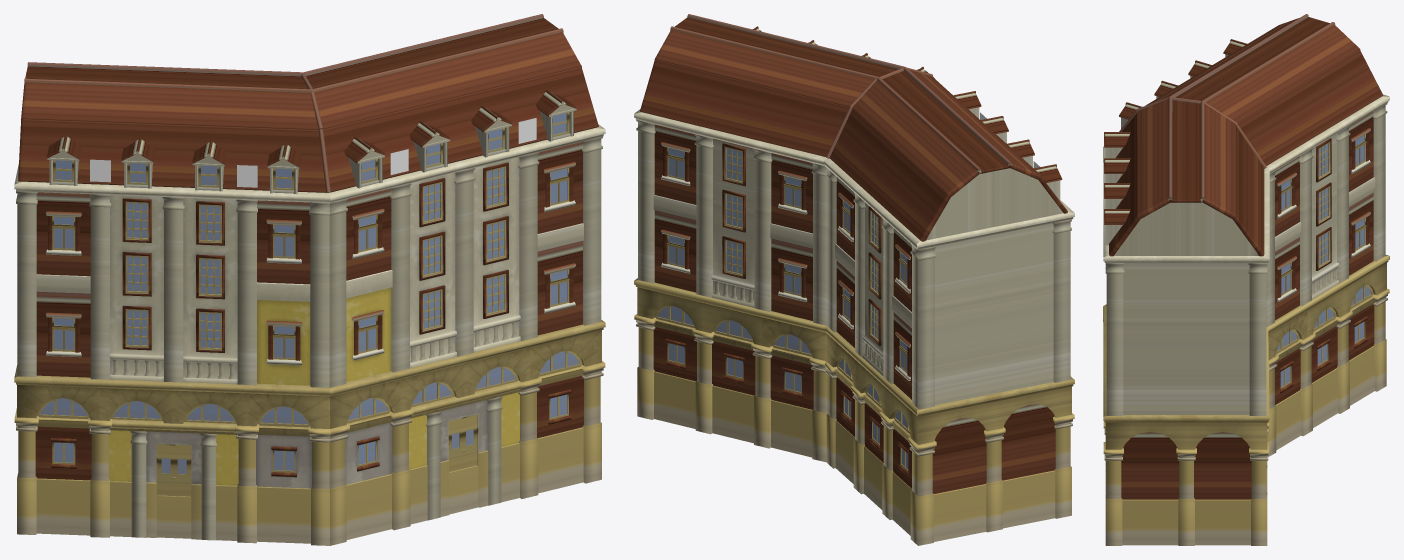
File: objects_un_c01newcity1test01.gltf
3 views of the same model, side by side, from view 1: azimuth 30°, elevation 25°; view 2: azimuth 150°, elevation 25°; view 3: azimuth 270°, elevation 25° (orthographic). The views are drawn at different scales.
Parts seen in each view (by area): view 1: objects_un_c01newcity1test01_mesh_shape:objects_un_c01newcit (×3), nomerge_objects_un_c01newcity1test01_int_shape:objects_un_be; view 2: objects_un_c01newcity1test01_mesh_shape:objects_un_c01newcit (×3); view 3: objects_un_c01newcity1test01_mesh_shape:objects_un_c01newcit (×3).
Boxes of the visible parts, x1,y1,x2,y2 form: objects_un_c01newcity1test01_mesh_shape:objects_un_c01newcit (×3): (14, 14, 605, 545); nomerge_objects_un_c01newcity1test01_int_shape:objects_un_be: (90, 118, 536, 187); objects_un_c01newcity1test01_mesh_shape:objects_un_c01newcit (×3): (634, 14, 1074, 545); objects_un_c01newcity1test01_mesh_shape:objects_un_c01newcit (×3): (1103, 14, 1389, 545).
Size of what is drawn, in the model's own units: 24.41 by 19.7 by 14.69.
4 materials, 3 textured.
